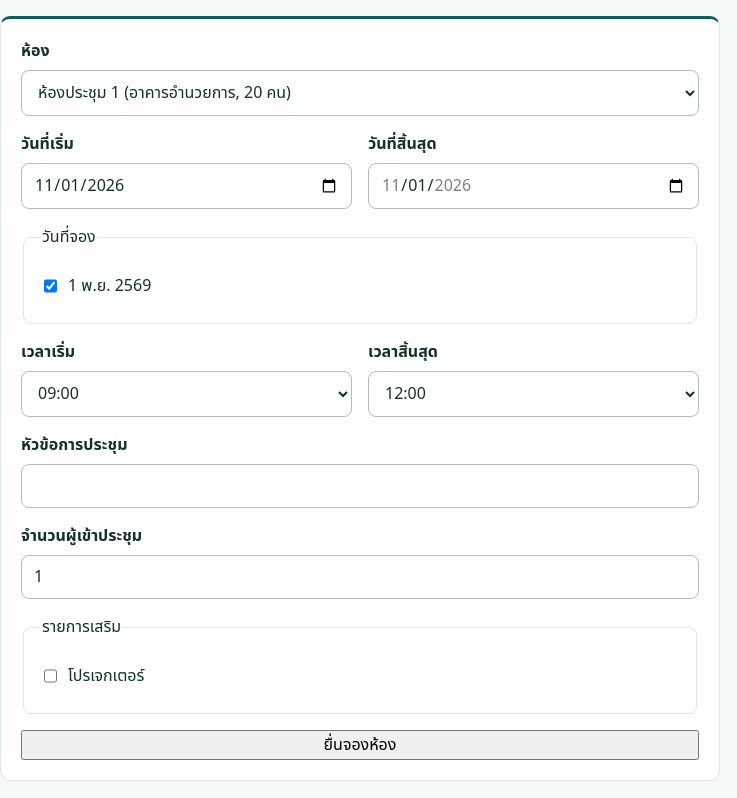
Scenario: limits the end date to 14 days and 90 days ahead, and refuses a longer range instead of cutting it short
Type "2026-11-05" into the date field labelled "วันที่เริ่ม" at [186, 186], box [21,163,352,209]
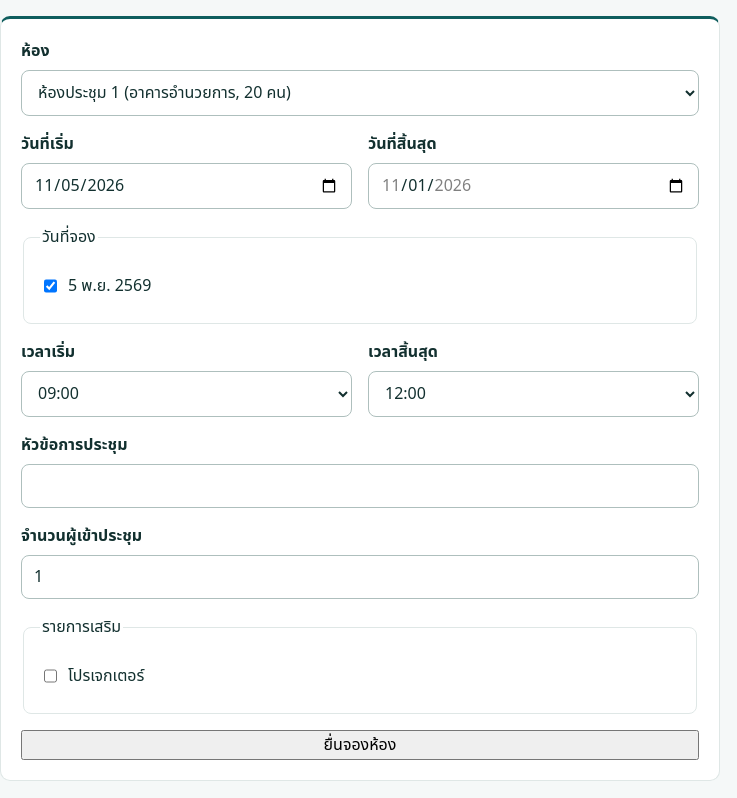
Type "2026-11-25" into the date field labelled "วันที่สิ้นสุด" at [534, 186], box [368,163,699,209]
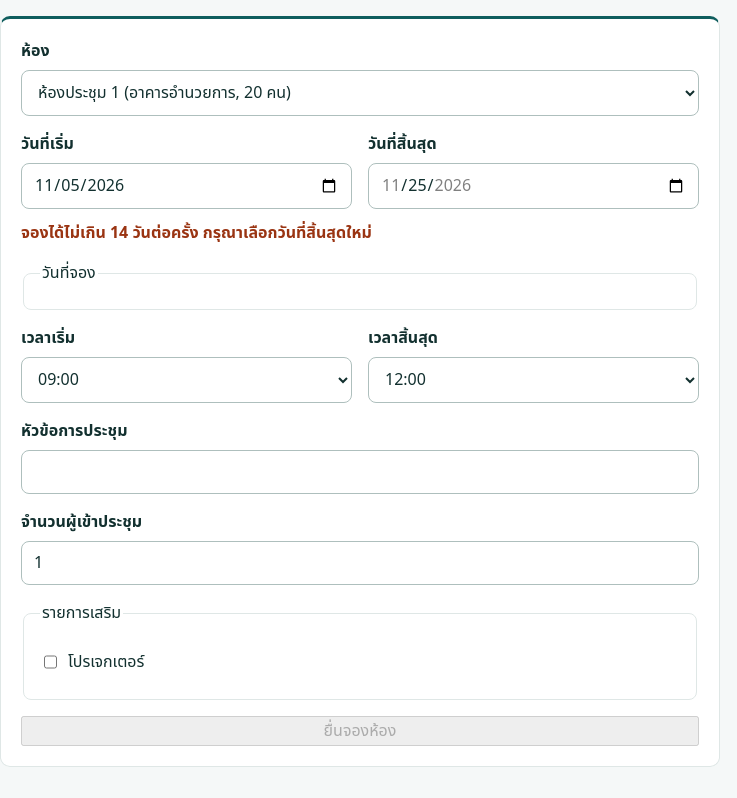
Now the message shows "จองได้ไม่เกิน 14 วันต่อครั้ง", box [21,221,372,245]
Now no labels "พ.ย. 2569" are shown
Now the button "ยื่นจองห้อง" is disabled, box [21,716,699,746]
